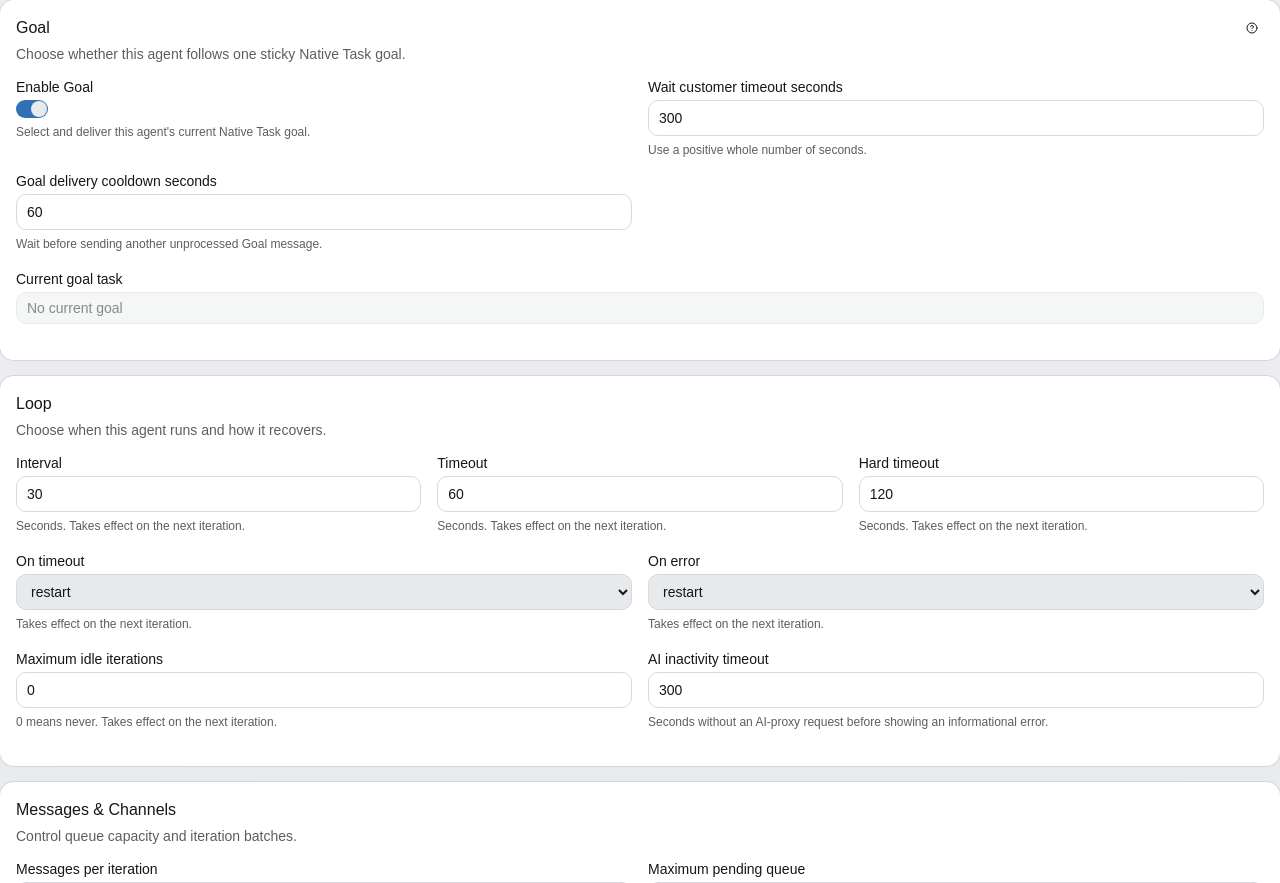
it: explains how Goal is selected from the Goal section
Step 1. Click the button named "How Goal is selected" → [1252, 28], box [1240,16,1264,40]
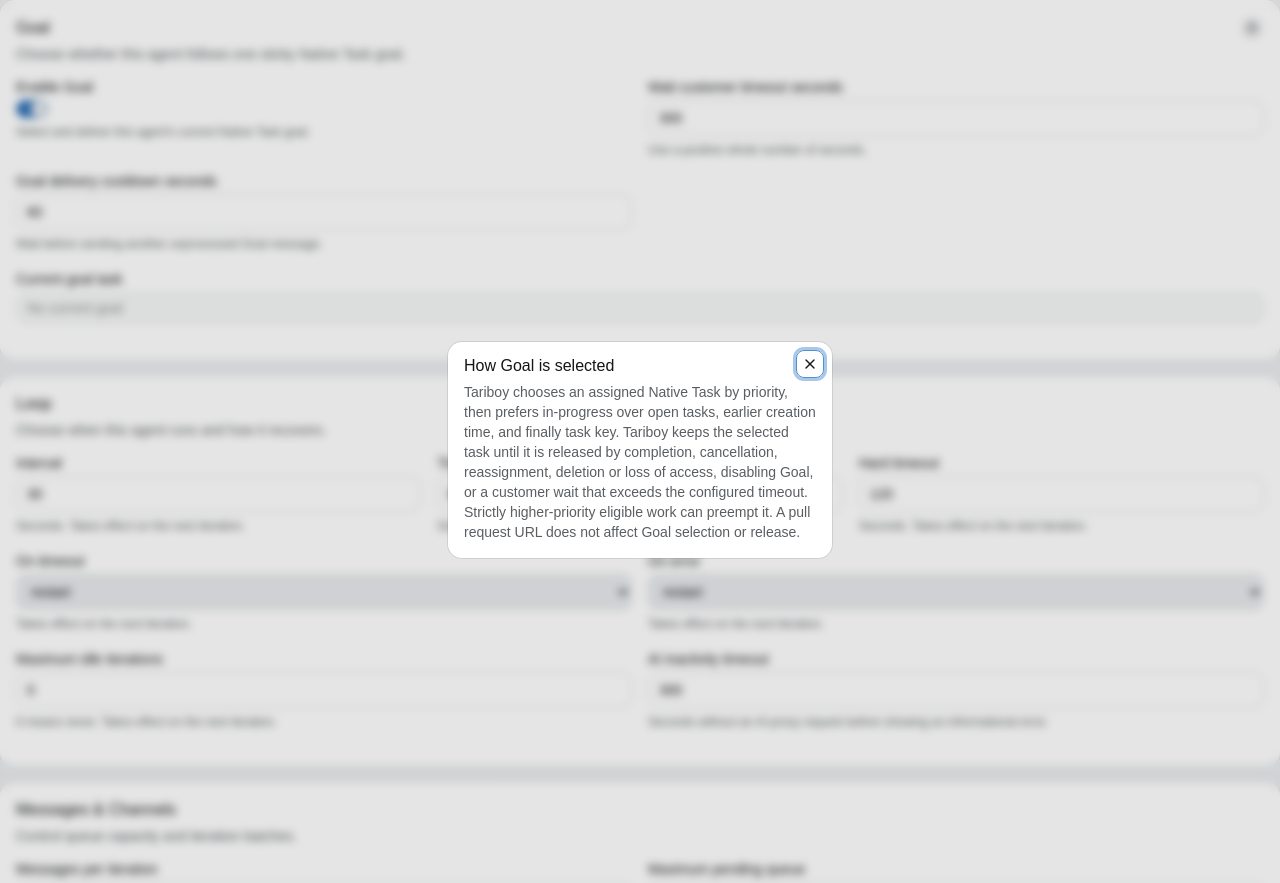
Expected: the dialog shows "Tariboy keeps the selected task until it is released", [464,384,816,540]
